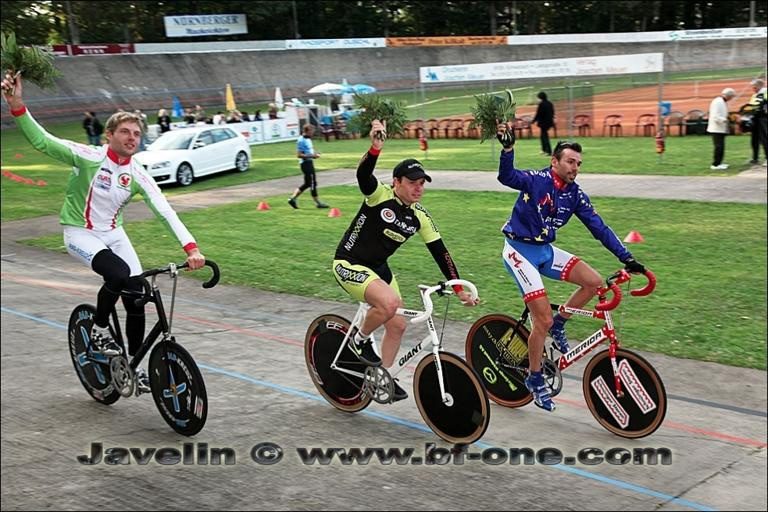non-vehicle: (461, 262, 668, 438), (301, 276, 489, 443), (66, 260, 221, 435)
